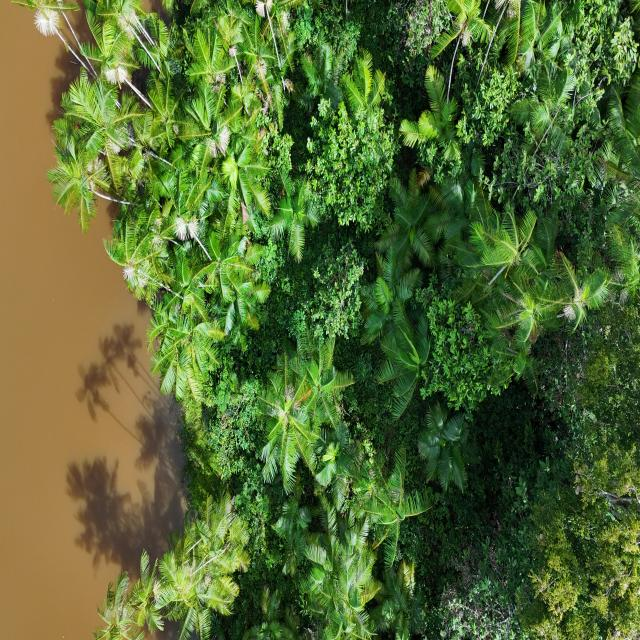vegetation: (13, 1, 638, 638)
